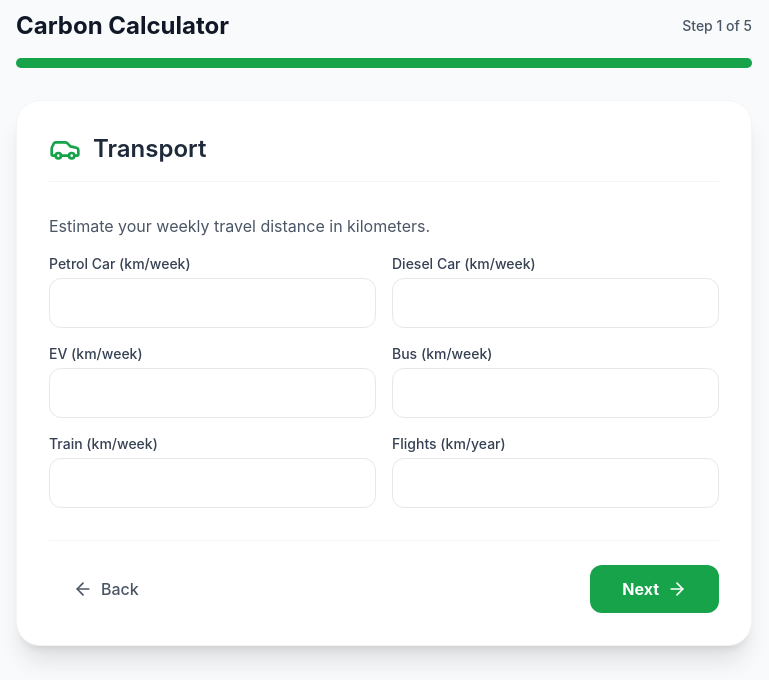
Test: Calculator Page › should show Waste section on step 4
Click the button "Next" at (655, 589), box [590,565,719,613]
Wait 3000 ms
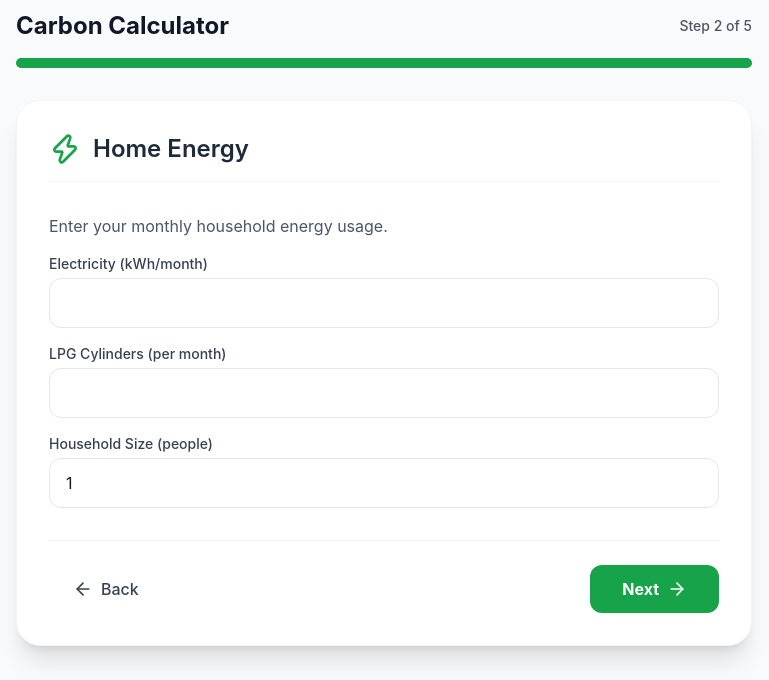
Click the button "Next" at (655, 589), box [590,565,719,613]
Wait 3000 ms
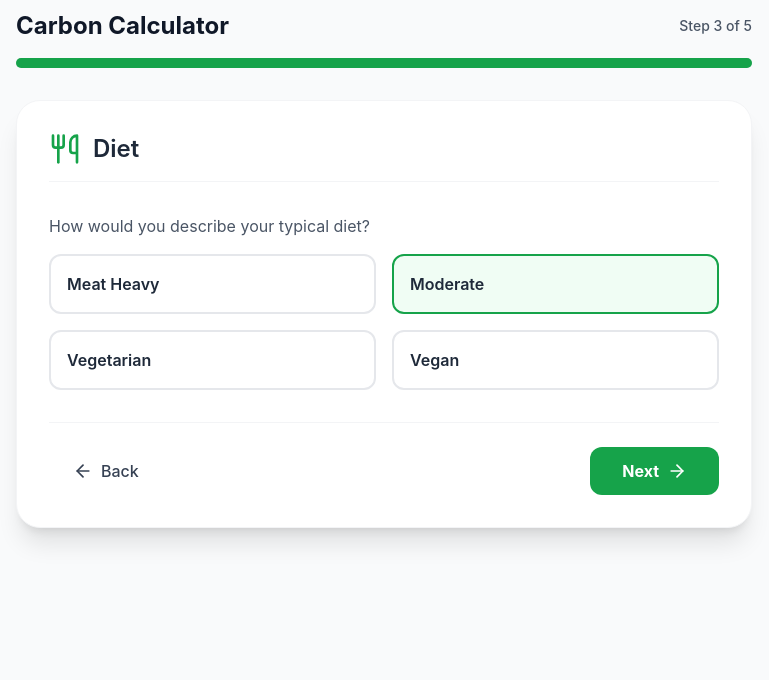
Click the button "Next" at (655, 471), box [590,447,719,495]
Wait 3000 ms
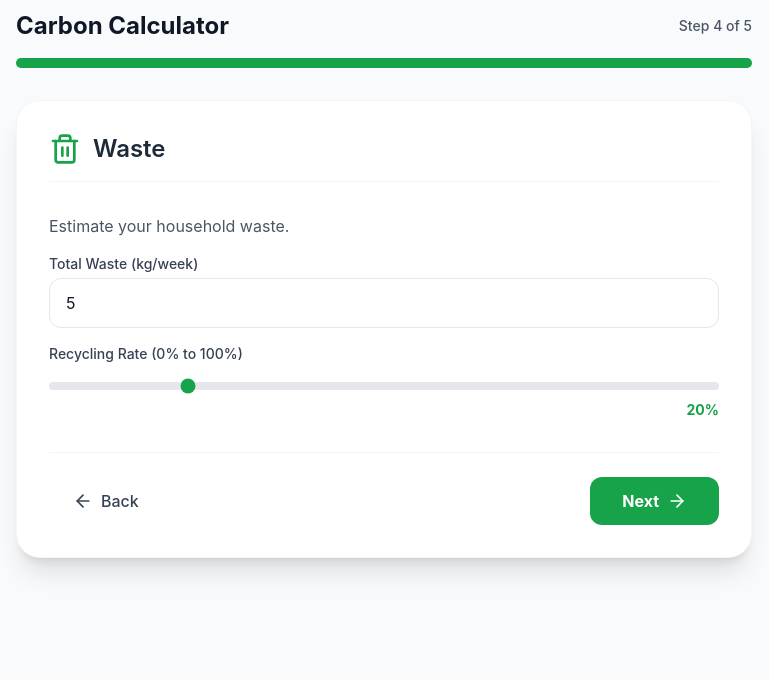
Expected: the heading "Waste" is shown, [93,133,166,165]
